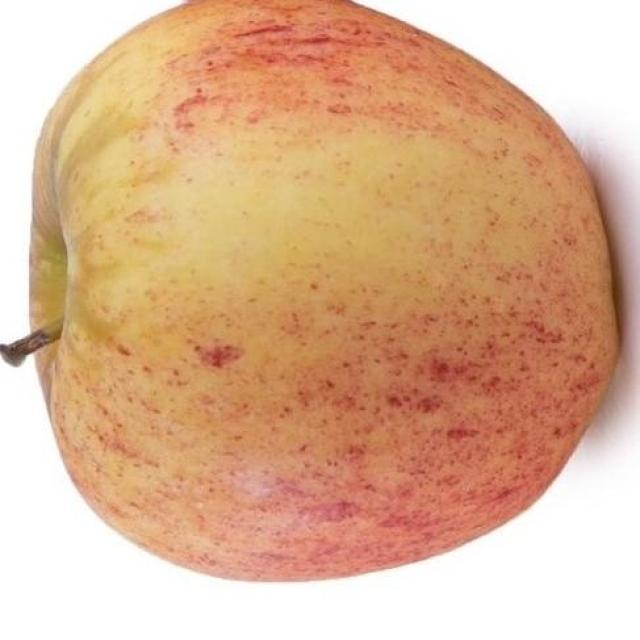Rotten Apple: (36, 3, 622, 579)
